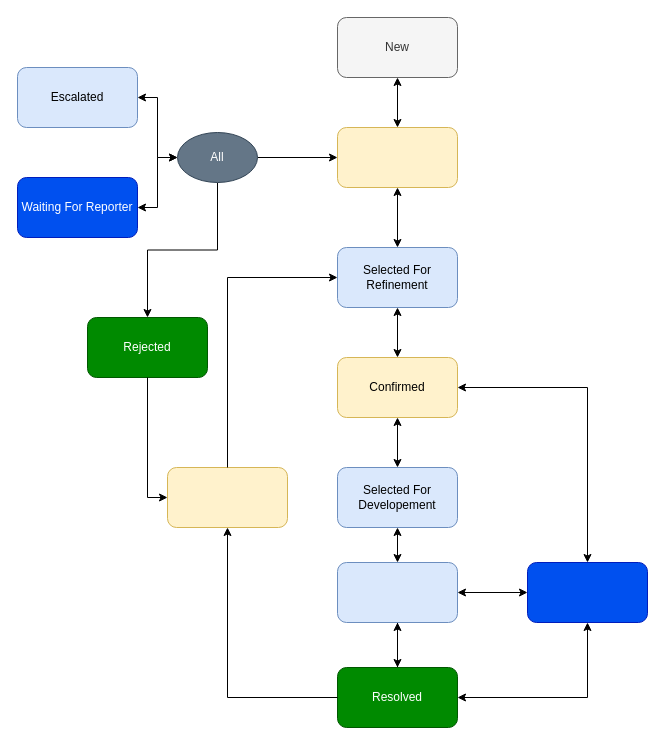
The diagram is 665 pixels wide and 745 high, and some of its shapes have lost their labels. The shapes that lost their labels are listed below. From the top down, each one's box as (x1, y1, x2, y2) in pixels, then its label:
(336, 126, 458, 188): In Triage
(166, 466, 288, 528): Reopened
(336, 562, 458, 622): In Development
(526, 562, 648, 622): Workaround Proposed
